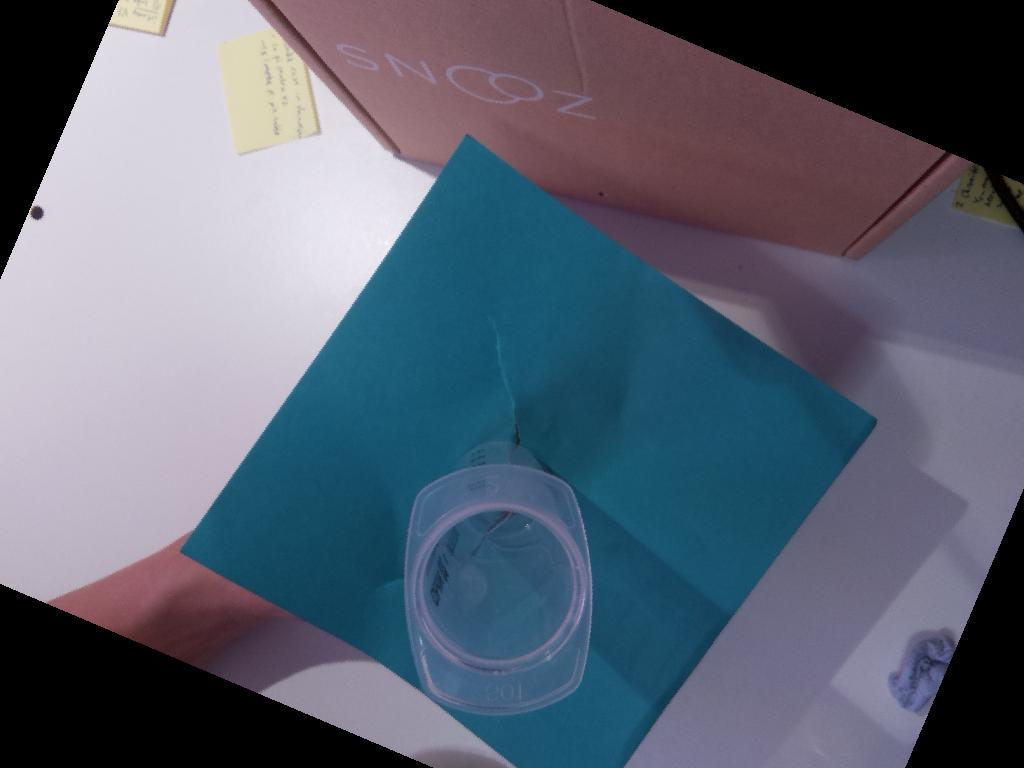clean: (401, 461, 595, 719)
